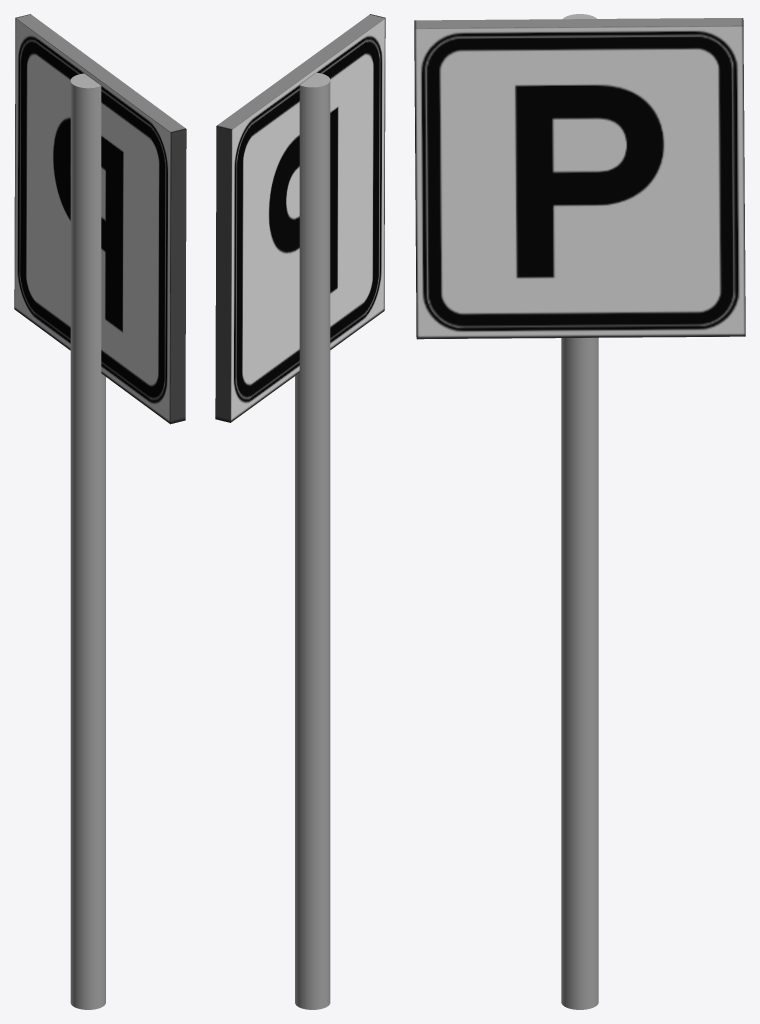
Rendered from ParkingWhite.fbx.
3 renders of one model, left to right at view 1: azimuth 30°, elevation 25°; view 2: azimuth 150°, elevation 25°; view 3: azimuth 270°, elevation 25°, orthographic. The views are drawn at different scales.
Visible parts, largest first — view 1: Plane, Cylinder; view 2: Plane, Cylinder; view 3: Plane, Cylinder.
Part boxes in pixels (x1,y1,x2,y2): Plane: [14, 14, 186, 424]; Cylinder: [70, 73, 105, 1009]; Plane: [215, 14, 385, 422]; Cylinder: [295, 72, 330, 1009]; Plane: [414, 18, 745, 339]; Cylinder: [561, 14, 598, 1009].
Size of the model in its own units: 23.43 by 583 by 178.
Materials: 2 (1 with a texture image).
